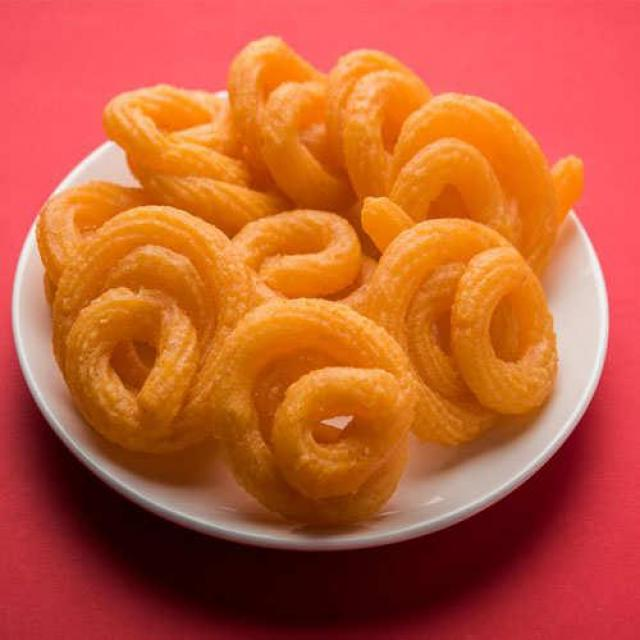jalebi: (35, 63, 576, 523)
